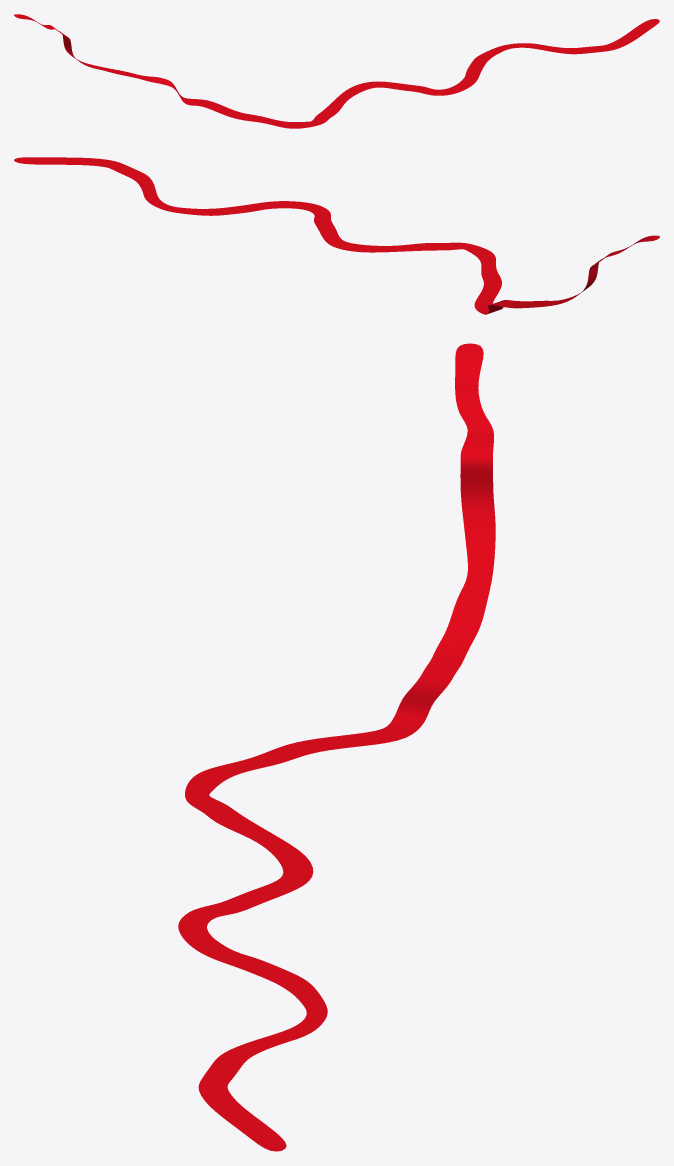
Rendered from hair2.fbx.
3 views of the same model, one above another, from view 1: azimuth 30°, elevation 25°; view 2: azimuth 150°, elevation 25°; view 3: azimuth 270°, elevation 25° (orthographic). The views are drawn at different scales.
Parts seen in each view (by area): view 1: Plane.003; view 2: Plane.003; view 3: Plane.003.
Boxes of the visible parts, x1,y1,x2,y2 form: Plane.003: (14,14,659,128); Plane.003: (14,157,659,314); Plane.003: (178,343,495,1151).
Bounding box in the file's own units: 18520 × 3364 × 4271.
